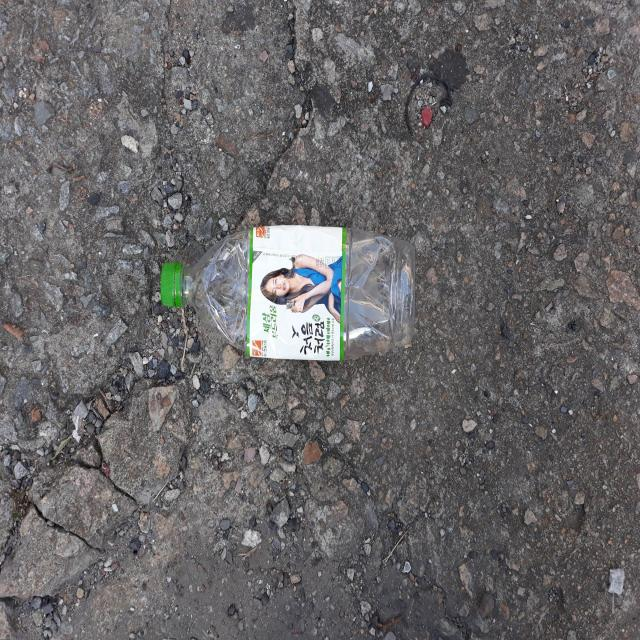plastic: (160, 225, 416, 361)
